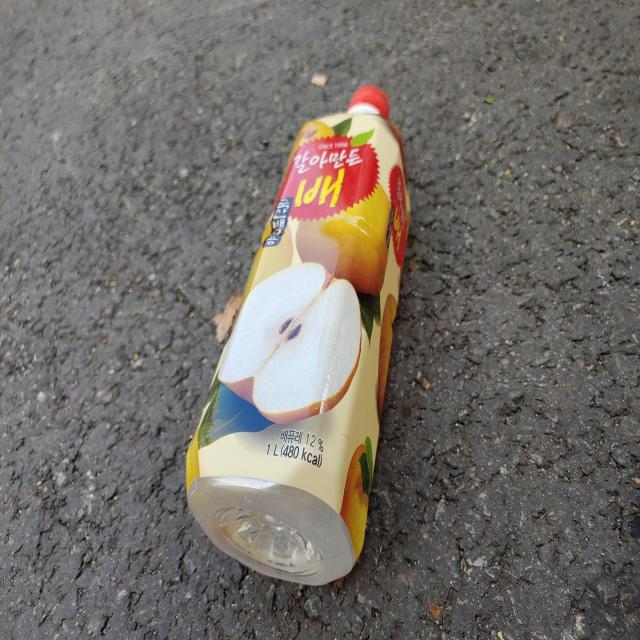plastic: (186, 84, 410, 586)
